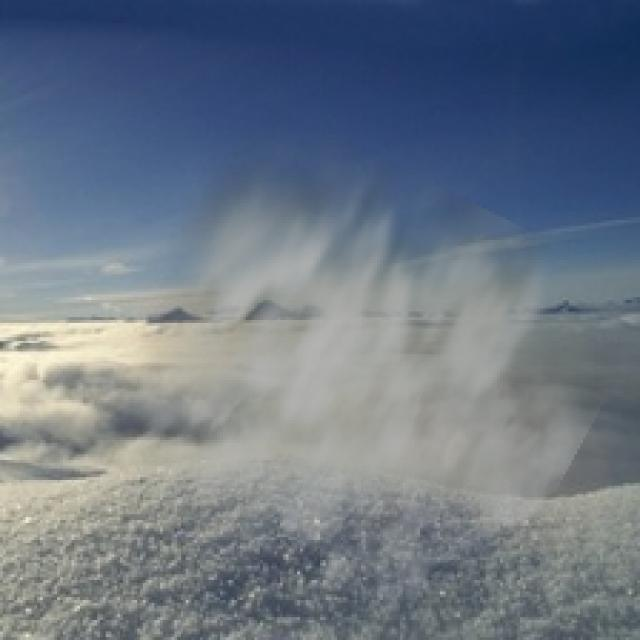smoke: (103, 103, 620, 623)
